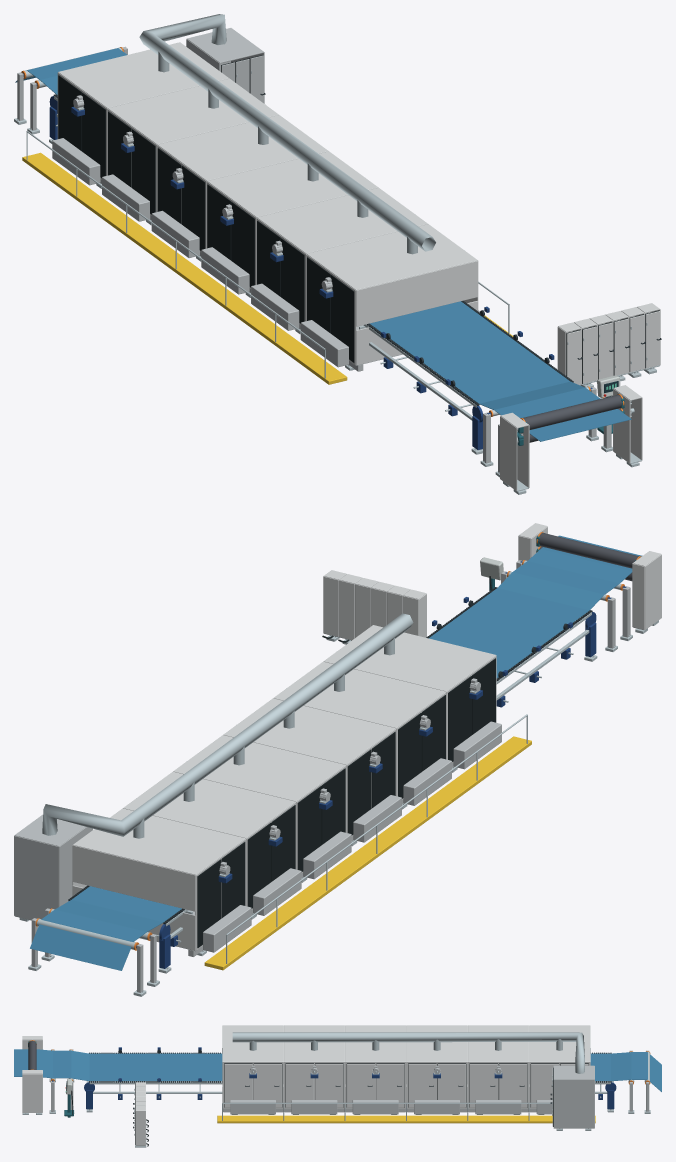
File: stenter.glb
3 renders of one model, top to bottom at view 1: azimuth 30°, elevation 25°; view 2: azimuth 150°, elevation 25°; view 3: azimuth 270°, elevation 25°, orthographic. The views are drawn at different scales.
Visible parts, largest first — view 1: fabric_web, f3_pipe.006, f3_service_aisle, f3_case_top, f3_case_top.005, f3_case_top.004, f3_case_top.003, f3_case_top.002, f3_case_top.001, f3_case_end_opening.001, panel_gasket, panel_gasket.012 (+29 smaller); view 2: fabric_web, f3_pipe.006, f3_service_aisle, f3_case_top.005, f3_case_top.004, f3_case_top.003, f3_case_top.002, f3_case_top.001, f3_case_top, f3_case_end_opening.023, f3_case_rear.002, panel_gasket.009 (+27 smaller); view 3: fabric_web, f3_pipe.006, f3_service_aisle.001, f3_case_wall.017, f3_case_top, f3_case_top.002, f3_case_top.003, f3_case_top.004, f3_case_top.001, f3_case_top.005, panel_skin.006, panel_skin.007 (+28 smaller).
Boxes of the visible parts, x1=… form: fabric_web: x1=15, y1=48, x2=631, y2=441; f3_pipe.006: x1=139, y1=14, x2=435, y2=251; f3_service_aisle: x1=22, y1=152, x2=347, y2=384; f3_case_top: x1=307, y1=224, x2=477, y2=290; f3_case_top.005: x1=58, y1=42, x2=229, y2=108; f3_case_top.004: x1=108, y1=78, x2=278, y2=144; f3_case_top.003: x1=158, y1=115, x2=328, y2=180; f3_case_top.002: x1=207, y1=151, x2=378, y2=217; f3_case_top.001: x1=257, y1=188, x2=427, y2=253; f3_case_end_opening.001: x1=356, y1=260, x2=478, y2=326; panel_gasket: x1=330, y1=274, x2=354, y2=362; panel_gasket.012: x1=181, y1=165, x2=205, y2=250; fabric_web: x1=30, y1=535, x2=642, y2=970; f3_pipe.006: x1=42, y1=613, x2=413, y2=836; f3_service_aisle: x1=204, y1=736, x2=531, y2=970; f3_case_top.005: x1=73, y1=808, x2=245, y2=874; f3_case_top.004: x1=123, y1=771, x2=295, y2=838; f3_case_top.003: x1=173, y1=735, x2=345, y2=801; f3_case_top.002: x1=223, y1=698, x2=395, y2=764; f3_case_top.001: x1=273, y1=661, x2=445, y2=728; f3_case_top: x1=323, y1=625, x2=495, y2=691; f3_case_end_opening.023: x1=72, y1=845, x2=195, y2=911; f3_case_rear.002: x1=14, y1=835, x2=59, y2=920; panel_gasket.009: x1=347, y1=749, x2=371, y2=835; fabric_web: x1=14, y1=1049, x2=661, y2=1091; f3_pipe.006: x1=232, y1=1032, x2=584, y2=1073; f3_service_aisle.001: x1=217, y1=1115, x2=595, y2=1123; f3_case_wall.017: x1=553, y1=1079, x2=594, y2=1128; f3_case_top: x1=222, y1=1025, x2=283, y2=1062; f3_case_top.002: x1=345, y1=1025, x2=406, y2=1062; f3_case_top.003: x1=406, y1=1025, x2=467, y2=1062; f3_case_top.004: x1=468, y1=1025, x2=528, y2=1062; f3_case_top.001: x1=284, y1=1025, x2=344, y2=1062; f3_case_top.005: x1=529, y1=1025, x2=590, y2=1062; panel_skin.006: x1=285, y1=1064, x2=313, y2=1107; panel_skin.007: x1=315, y1=1064, x2=343, y2=1107.
Bounding box in the file's own units: 9.26 × 3.77 × 31.7.
